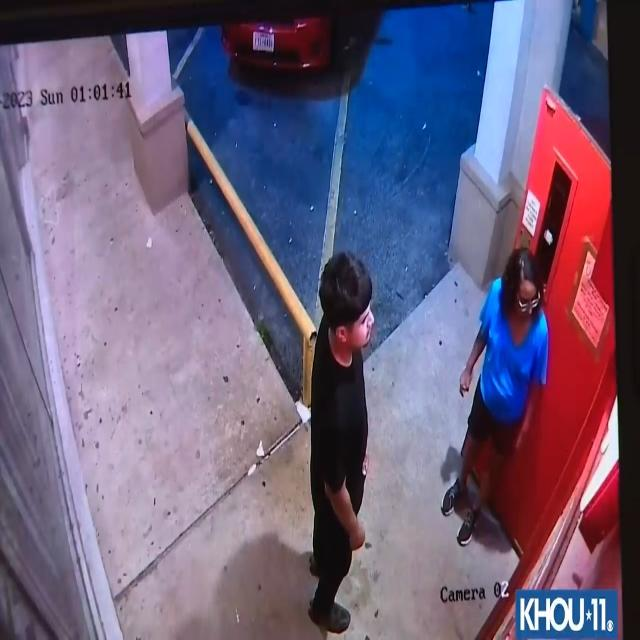Person: (442, 246, 549, 577), (302, 253, 372, 630)
